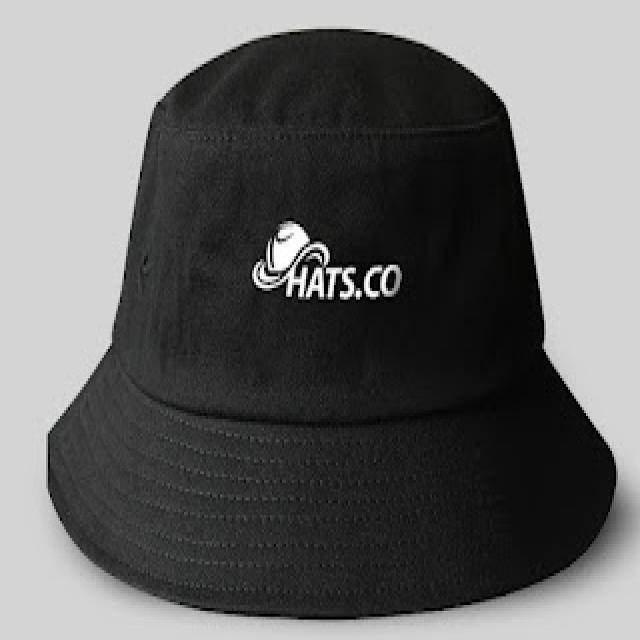mask: (76, 20, 590, 612)
